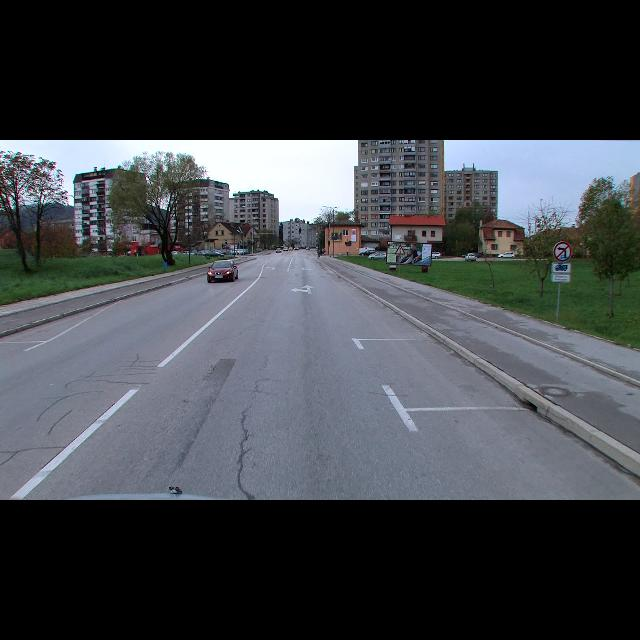Round: (555, 240, 573, 262)
Squared: (552, 262, 572, 274), (554, 274, 570, 282)
Triangle: (396, 242, 406, 255)
